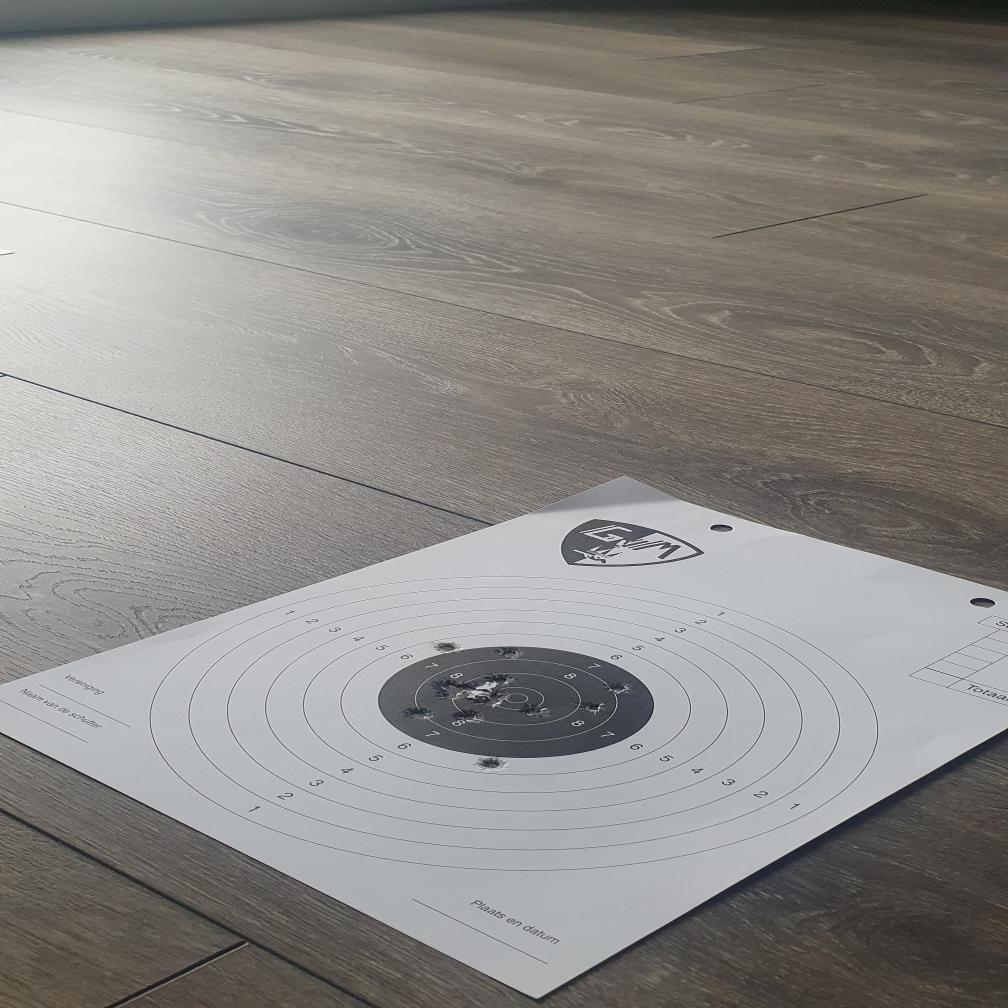10: (517, 704, 551, 719), (480, 696, 503, 708), (485, 689, 506, 697)
6: (472, 756, 510, 772), (430, 641, 463, 654)
7: (492, 647, 526, 660)
8: (602, 681, 636, 696), (398, 707, 434, 721)
9: (452, 708, 486, 725), (578, 699, 606, 715), (433, 679, 469, 691), (484, 673, 512, 687), (438, 690, 464, 700)
Target: (146, 575, 880, 873)
black_contour: (380, 646, 654, 758)
